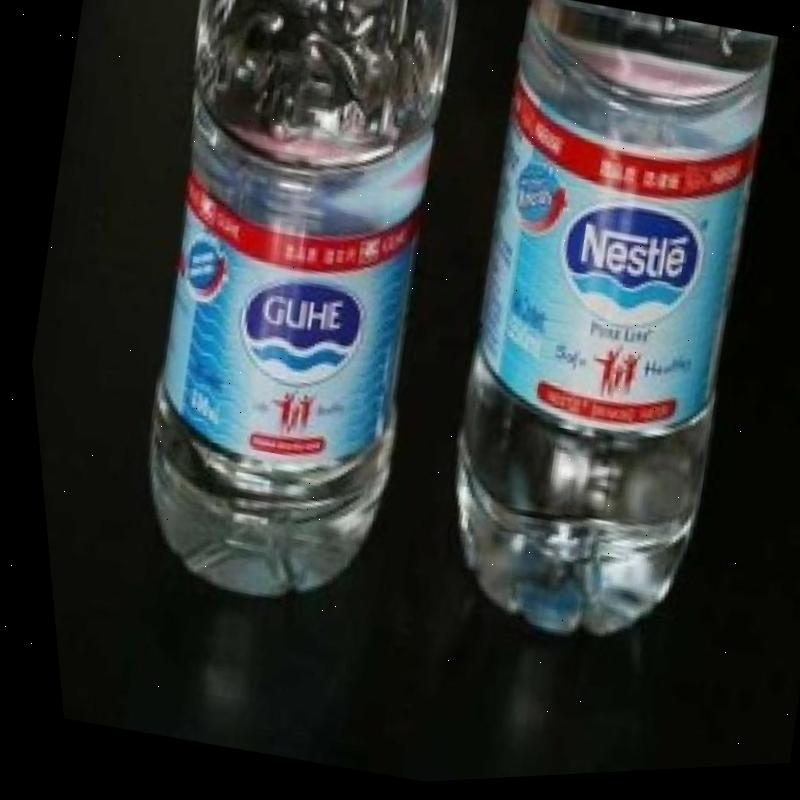botella: (372, 0, 800, 675), (57, 0, 508, 630)
